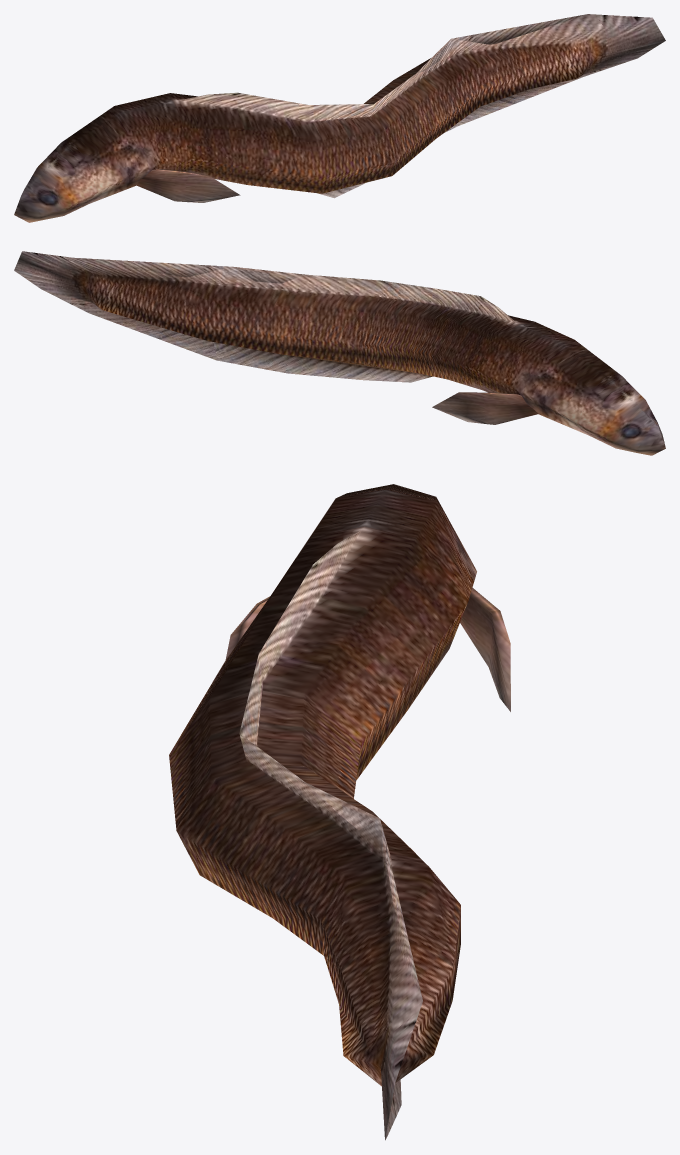
The model's file is dragonSnakehead.fbx.
The picture shows the model from 3 angles, top to bottom: view 1: azimuth 30°, elevation 25°; view 2: azimuth 150°, elevation 25°; view 3: azimuth 270°, elevation 25°; orthographic projection. The views are drawn at different scales.
Parts seen in each view (by area): view 1: body_geo, fin1; view 2: body_geo, fin2; view 3: body_geo, fin2.
Boxes of the visible parts, x1,y1,x2,y2 form: body_geo: (14, 14, 665, 222); fin1: (136, 169, 240, 202); body_geo: (14, 251, 665, 455); fin2: (432, 392, 538, 424); body_geo: (169, 484, 476, 1140); fin2: (460, 587, 510, 711).
Bounding box in the file's own units: 29.5 × 5.08 × 6.72.
